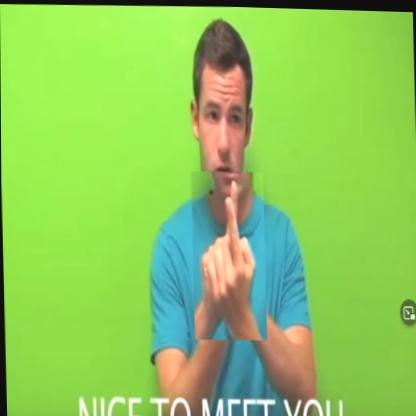NiceToMeetYou: (190, 168, 266, 339)
